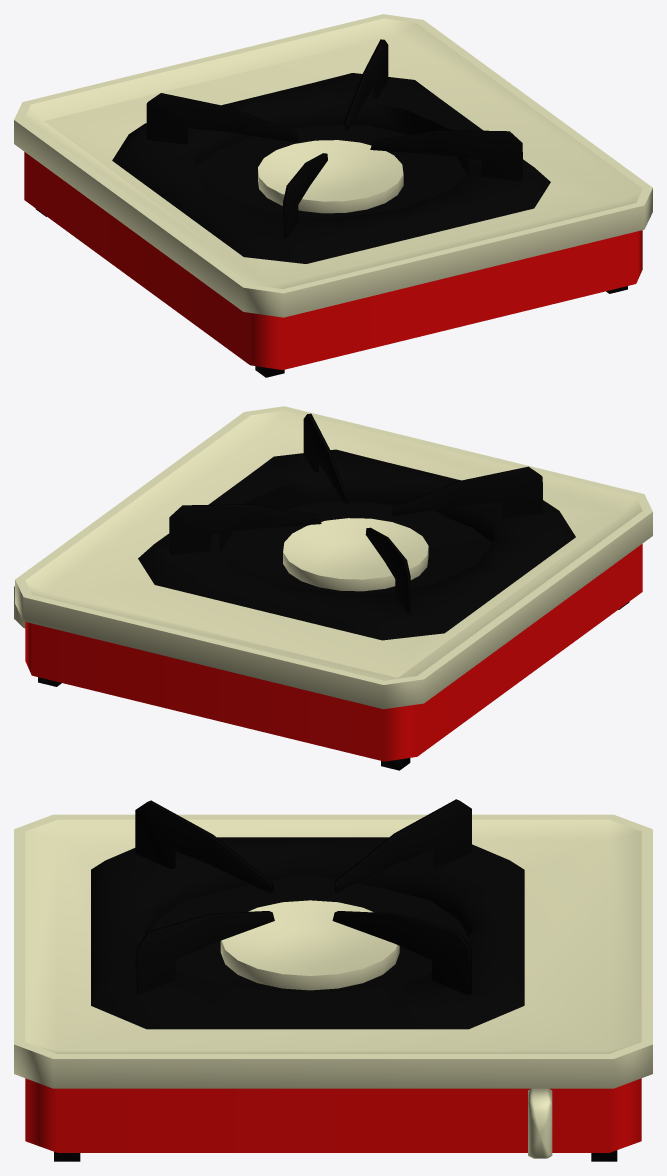
Rendered from gasukonnro.fbx.
3 renders of one model, top to bottom at view 1: azimuth 30°, elevation 25°; view 2: azimuth 150°, elevation 25°; view 3: azimuth 270°, elevation 25°, orthographic. The views are drawn at different scales.
Parts seen in each view (by area): view 1: gasukonnro; view 2: gasukonnro; view 3: gasukonnro.
Boxes of the visible parts, bbox=[...] form: gasukonnro: bbox=[14, 14, 652, 377]; gasukonnro: bbox=[14, 406, 652, 770]; gasukonnro: bbox=[14, 799, 652, 1161].
Size of the model in its own units: 25.53 by 8.28 by 26.44.
